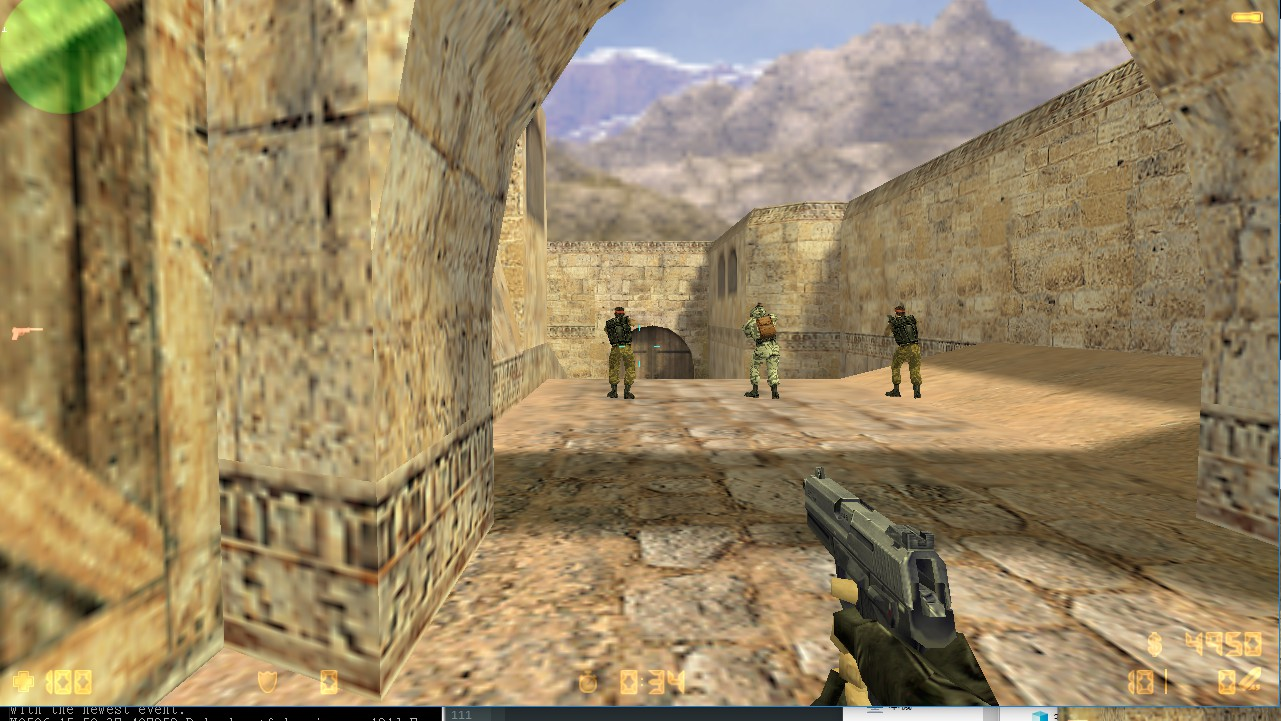person: (878, 302, 927, 401), (742, 306, 786, 402), (601, 303, 642, 405)
